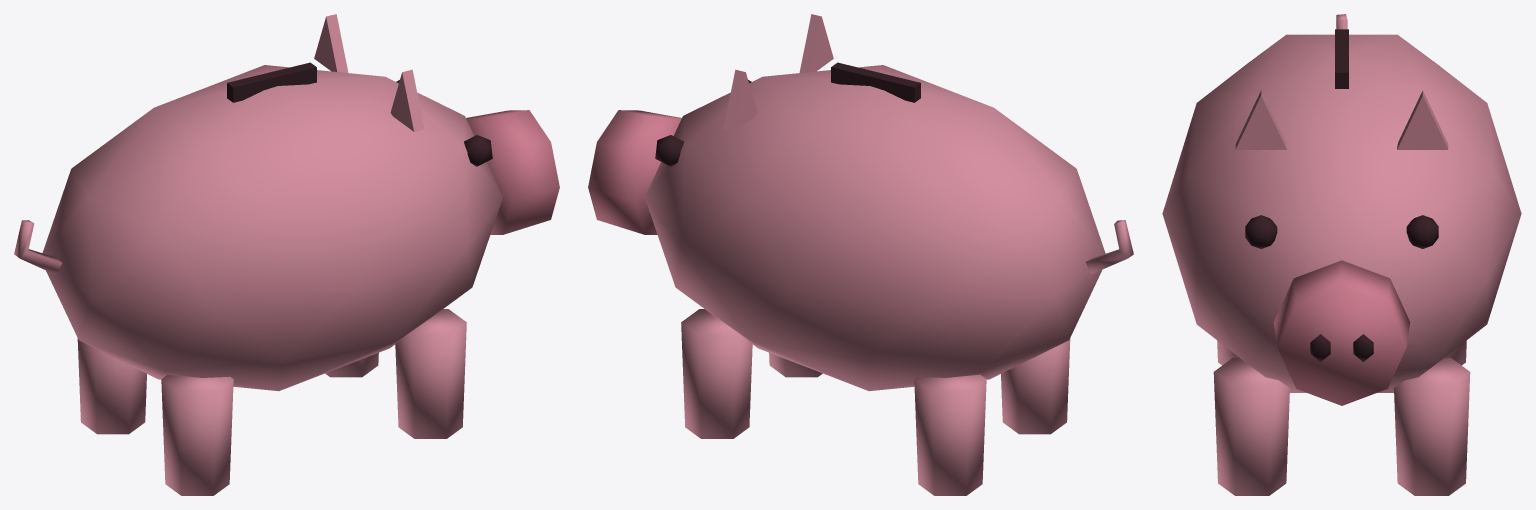
The model's file is piggy_bank_v0.glb.
3 views of the same model, side by side, from view 1: azimuth 30°, elevation 25°; view 2: azimuth 150°, elevation 25°; view 3: azimuth 270°, elevation 25° (orthographic). The views are drawn at different scales.
Visible parts, largest first — view 1: piggy_bank_v0; view 2: piggy_bank_v0; view 3: piggy_bank_v0.
Boxes of the visible parts, x1,y1,x2,y2 form: piggy_bank_v0: (14, 14, 559, 495); piggy_bank_v0: (588, 14, 1133, 495); piggy_bank_v0: (1162, 14, 1521, 495).
Bounding box in the file's own units: 0.7432 × 0.4912 × 0.42.
